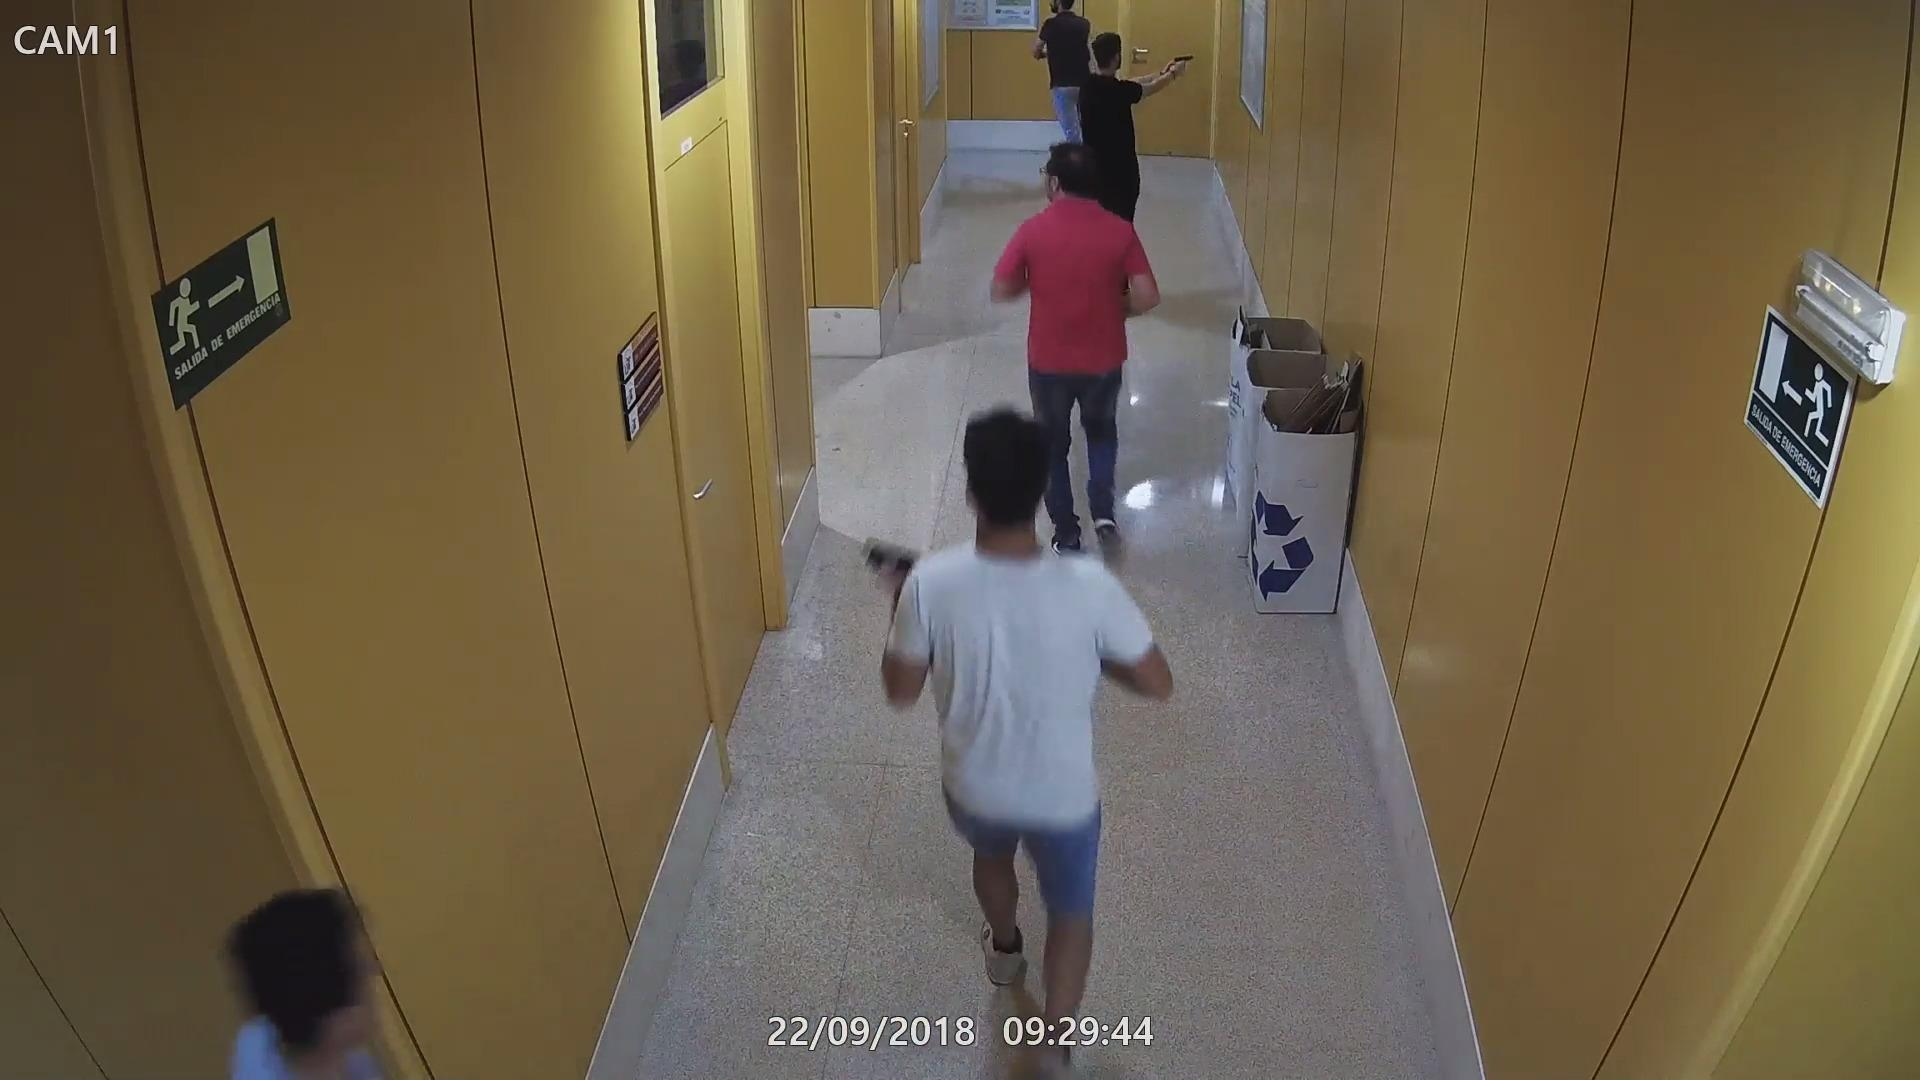Handgun: (1164, 47, 1196, 79)
